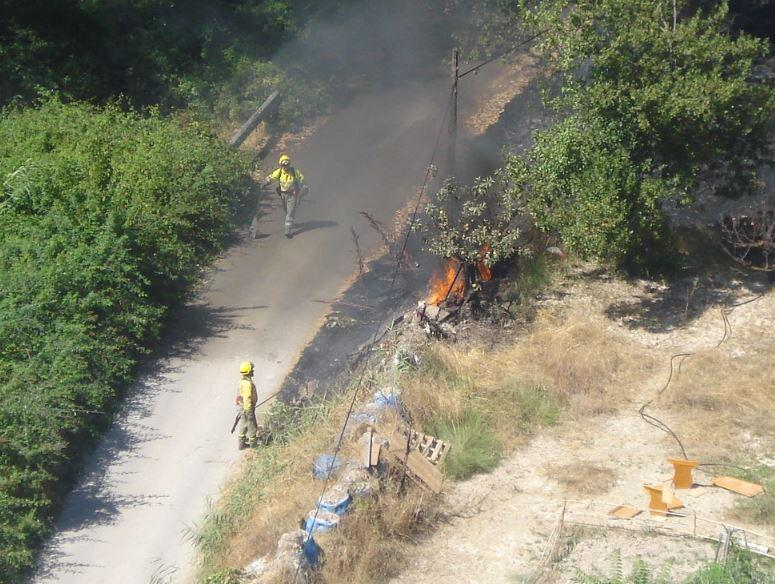Fire: (427, 244, 500, 304)
